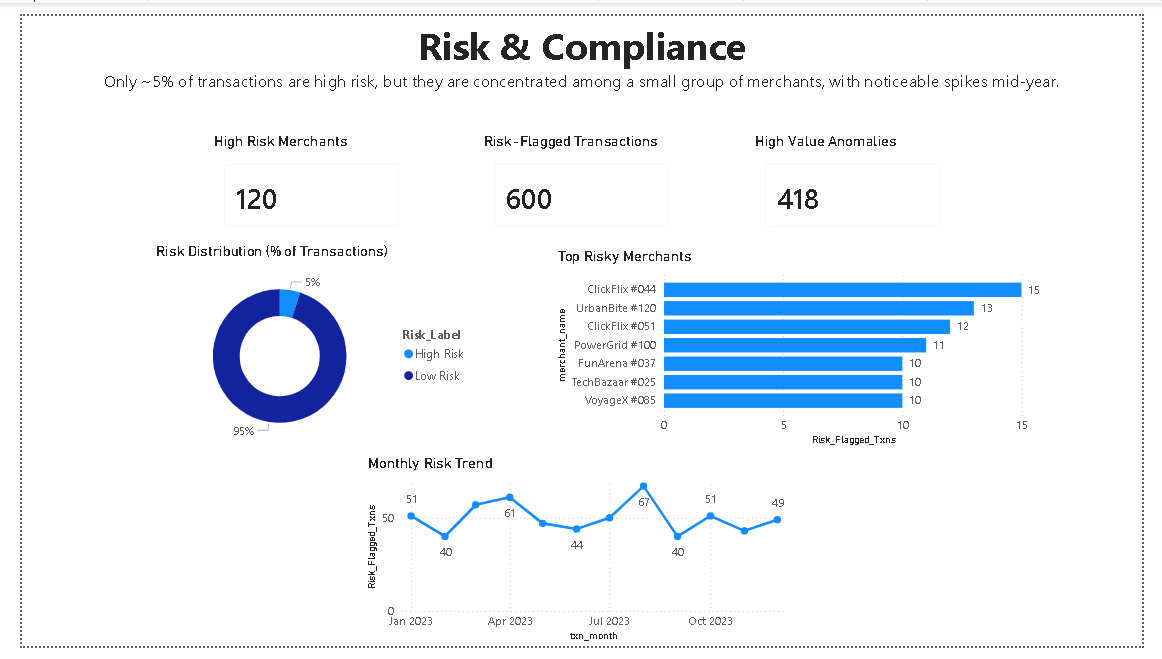

The page's visual inventory and layout, read from the dashboard file:
{"tool":"powerbi","page":{"name":"Page 2","canvas":[1280,720],"ordinal":1},"visuals":[{"type":"donutChart","title":"Risk Distribution (% of Transactions)","fields":{"Category":["Fact_Transactions.Risk_Label"],"Y":["CountNonNull(Fact_Transactions.txn_id)"]},"box":[148.6,258.6,374.3,241.4],"z":0},{"type":"cardVisual","title":"High Risk Merchants","fields":{"Data":["Fact_Transactions.High_Risk_Merchants"]},"box":[214.3,132.9,234.3,125.7],"z":1000},{"type":"cardVisual","title":"High Value Anomalies","fields":{"Data":["Fact_Transactions.High_Value_Anomalies"]},"box":[832.9,132.9,234.3,125.7],"z":2000},{"type":"cardVisual","title":"Risk-Flagged Transactions","fields":{"Data":["Fact_Transactions.Risk_Flagged_Txns"]},"box":[522.9,132.9,234.3,125.7],"z":3000},{"type":"clusteredBarChart","title":"Top Risky Merchants","fields":{"Category":["Fact_Transactions.merchant_name"],"Y":["Fact_Transactions.Risk_Flagged_Txns"]},"box":[607.1,264.3,571.4,231.4],"z":4000},{"type":"lineChart","title":"Monthly Risk Trend","fields":{"Y":["Fact_Transactions.Risk_Flagged_Txns"],"Category":["Fact_Transactions.txn_month"]},"box":[390,500,501.4,220],"z":5000},{"type":"textbox","box":[0,0,1280,132.9],"z":6000}]}

Visuals, with their boxes in screenshot pixels (x1, y1, x2, y2), scaled from the page's 1280x720 canvas onto the 1162x659 screenshot:
"Risk Distribution (% of Transactions)" donutChart: <bbox>135, 237, 475, 458</bbox>
"High Risk Merchants" cardVisual: <bbox>195, 122, 407, 237</bbox>
"High Value Anomalies" cardVisual: <bbox>756, 122, 969, 237</bbox>
"Risk-Flagged Transactions" cardVisual: <bbox>475, 122, 687, 237</bbox>
"Top Risky Merchants" clusteredBarChart: <bbox>551, 242, 1070, 454</bbox>
"Monthly Risk Trend" lineChart: <bbox>354, 458, 809, 658</bbox>
textbox: <bbox>0, 0, 1161, 122</bbox>
